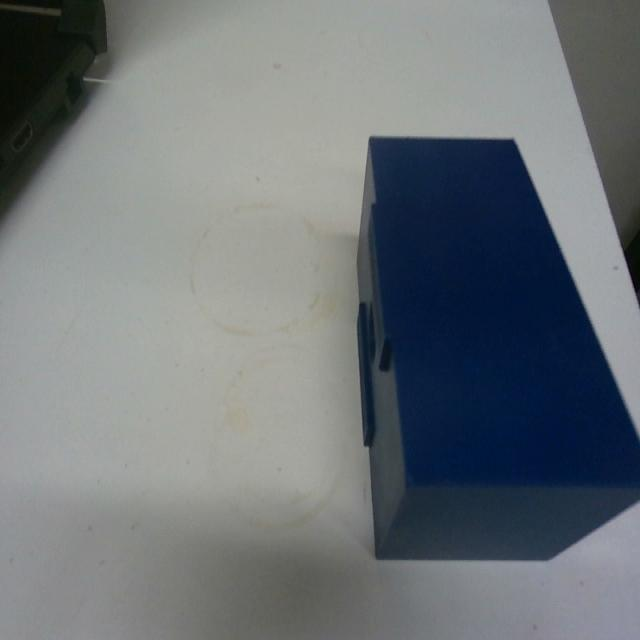Blue Cuboid: (353, 130, 638, 562)
